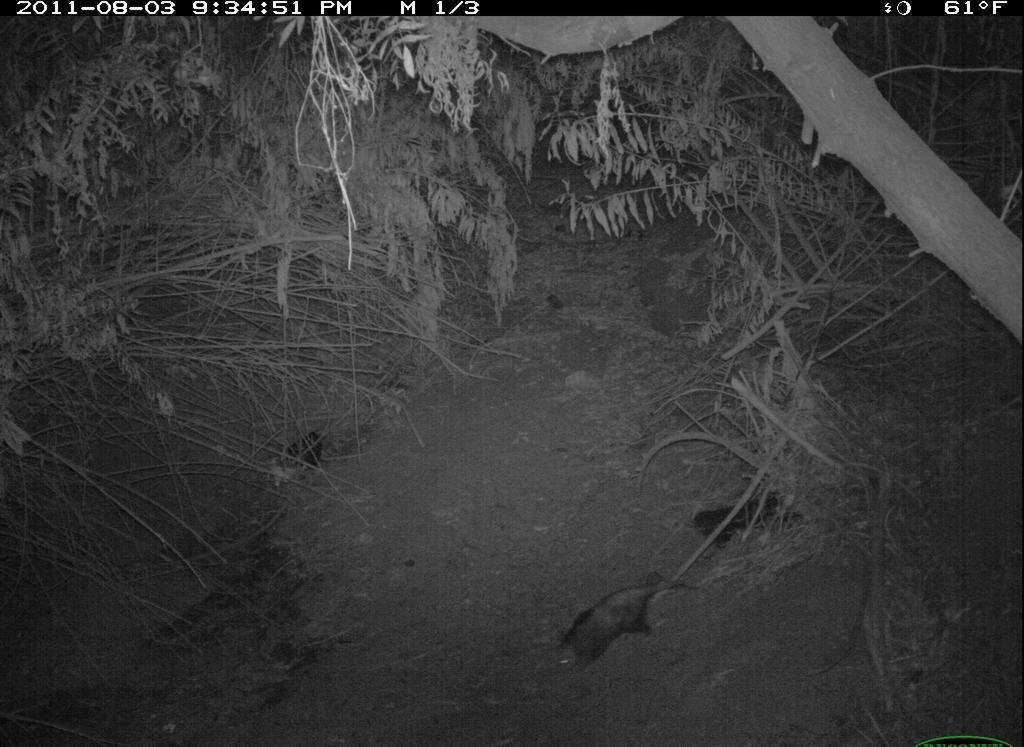opossum: (546, 575, 706, 681)
